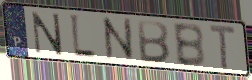B: (171, 22, 208, 70), (136, 18, 172, 65)
L: (68, 12, 98, 61)
N: (100, 15, 138, 62), (31, 10, 65, 57)
T: (207, 23, 238, 72)
